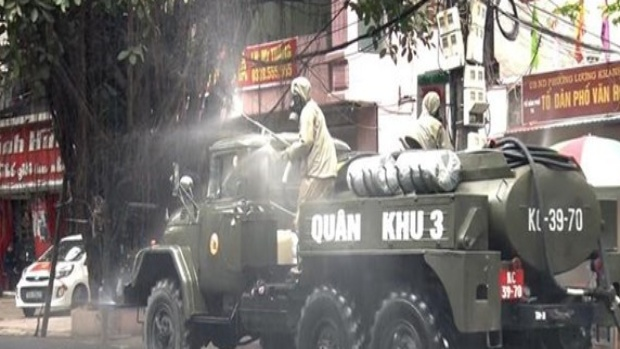plate: (494, 265, 528, 301)
